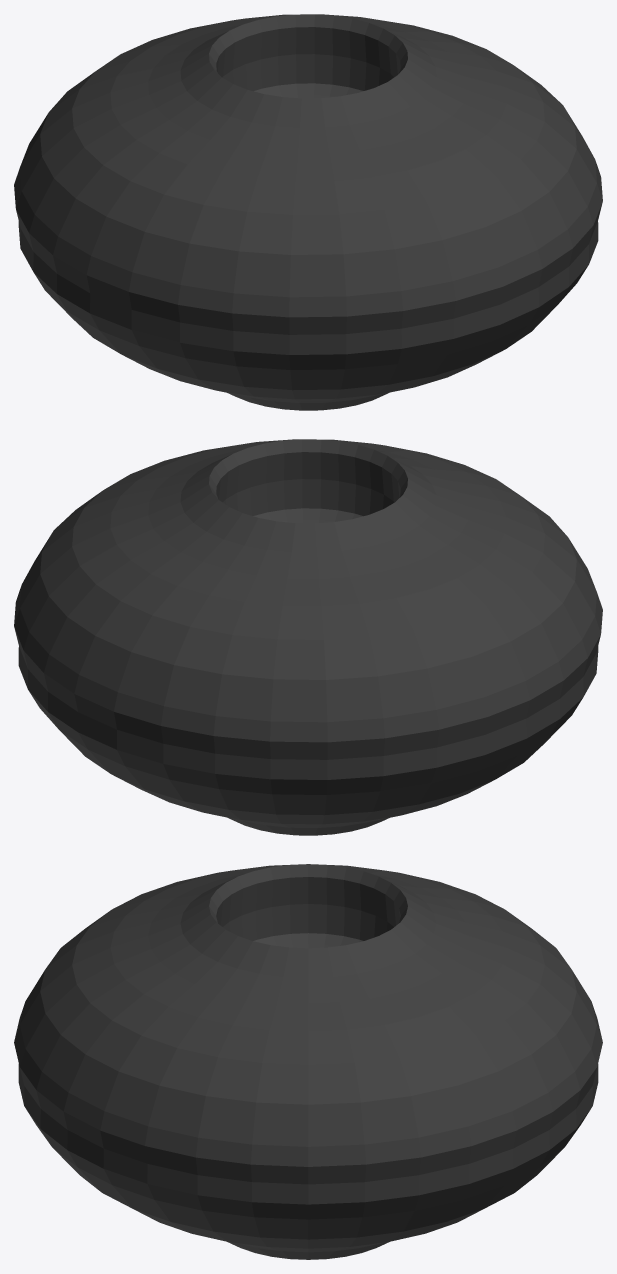
Rendered from SimpleVase.fbx.
The picture shows the model from 3 angles, top to bottom: view 1: azimuth 30°, elevation 25°; view 2: azimuth 150°, elevation 25°; view 3: azimuth 270°, elevation 25°; orthographic projection.
Parts seen in each view (by area): view 1: Circle; view 2: Circle; view 3: Circle.
Boxes of the visible parts, x1,y1,x2,y2 form: Circle: (14, 14, 602, 410); Circle: (14, 439, 602, 835); Circle: (14, 864, 602, 1259).
Size of the model in its own units: 638 by 374 by 638.
